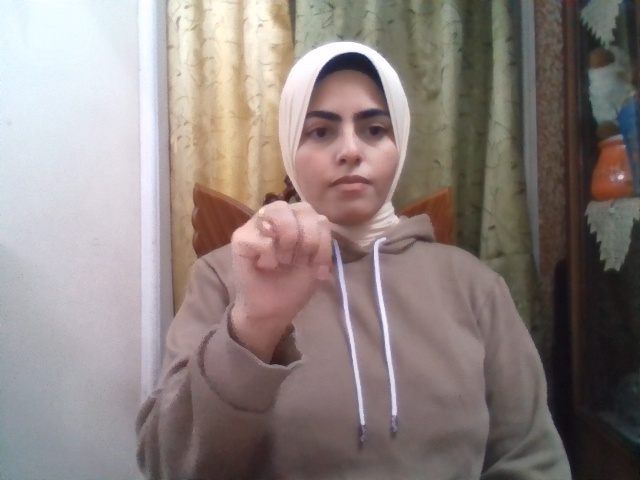M: (231, 201, 333, 325)
